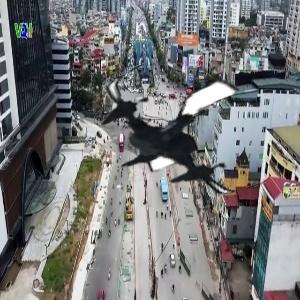drone: (101, 45, 274, 218)
